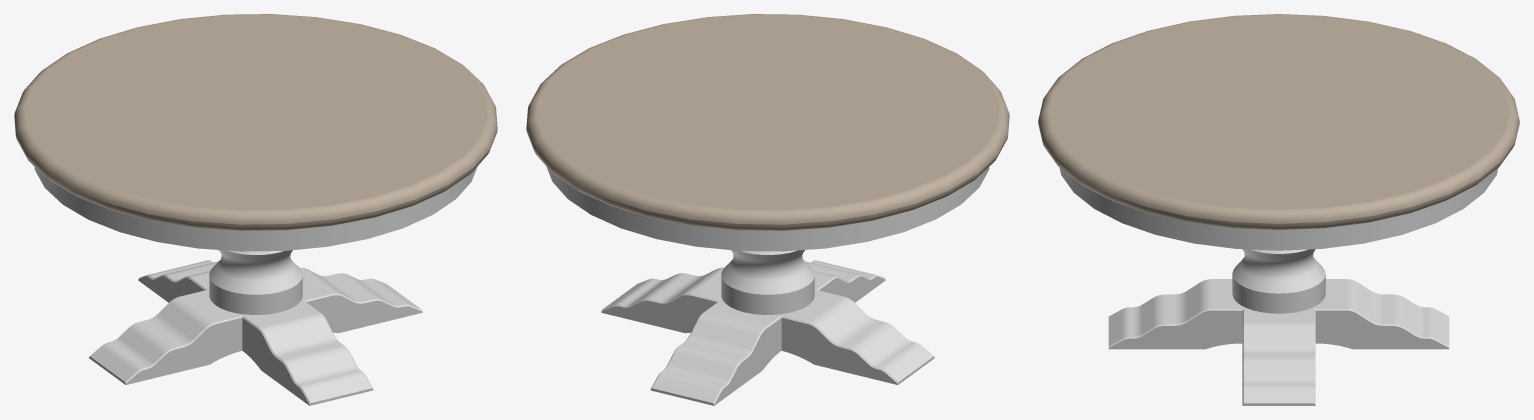
Rendered from TableRonde_29.fbx.
3 views of the same model, side by side, from view 1: azimuth 30°, elevation 25°; view 2: azimuth 150°, elevation 25°; view 3: azimuth 270°, elevation 25° (orthographic).
Parts seen in each view (by area): view 1: pCylinder17, pCube21, pCube22, pCube20, pCube23; view 2: pCylinder17, pCube21, pCube23, pCube20, pCube22; view 3: pCylinder17, pCube23, pCube22, pCube20.
Boxes of the visible parts, box(x1,y1,x2,y2) form: pCylinder17: box(14, 14, 497, 314); pCube21: box(89, 290, 242, 384); pCube22: box(241, 301, 373, 405); pCube20: box(206, 267, 422, 333); pCube23: box(138, 260, 218, 302); pCylinder17: box(526, 14, 1009, 314); pCube21: box(781, 290, 934, 384); pCube23: box(650, 301, 782, 405); pCube20: box(601, 267, 817, 333); pCube22: box(805, 260, 885, 302); pCylinder17: box(1038, 14, 1519, 313); pCube23: box(1309, 279, 1449, 349); pCube22: box(1108, 279, 1248, 349); pCube20: box(1242, 309, 1315, 405).
Bounding box in the file's own units: 54.72 × 27.81 × 54.72.
